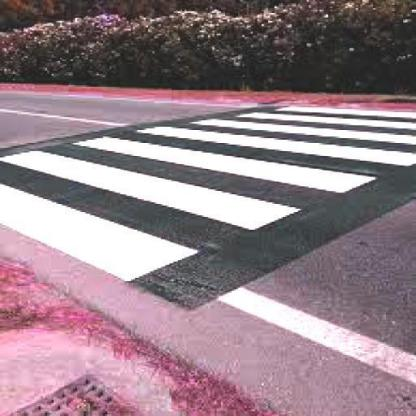crosswalk: (66, 114, 414, 199)
